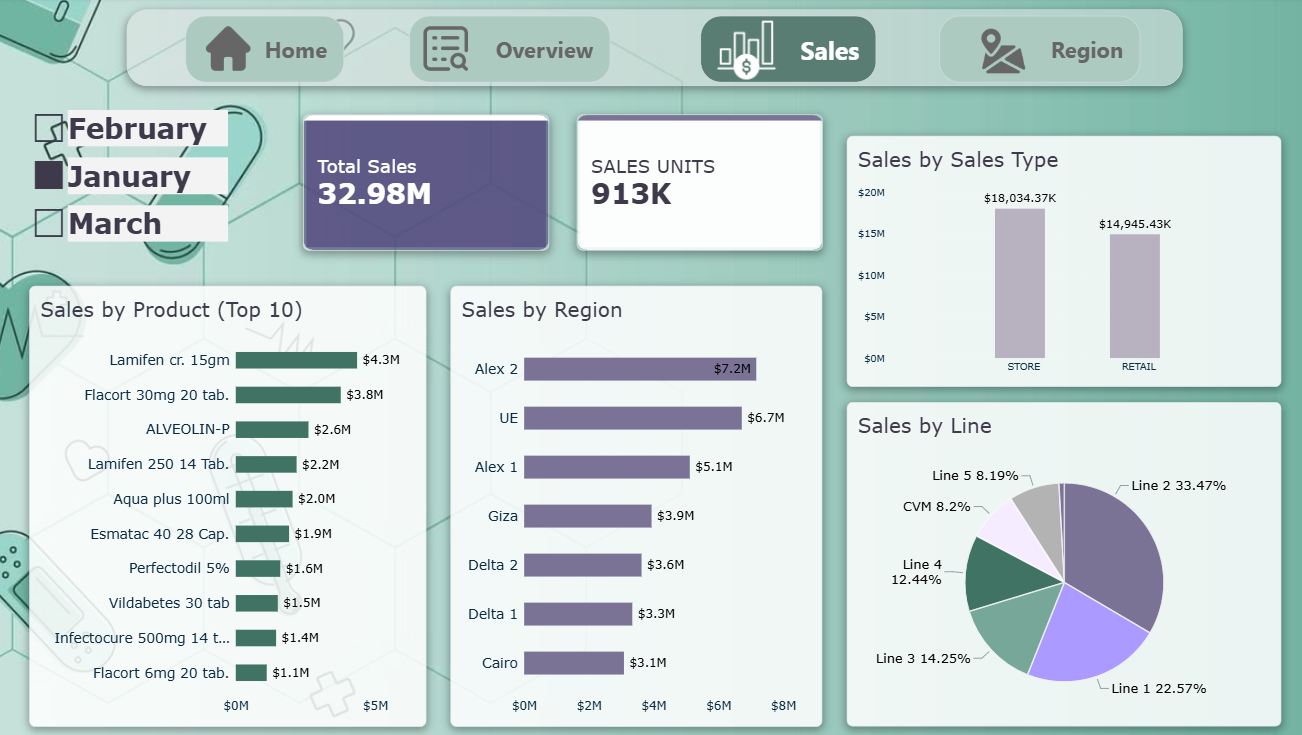

The dashboard page shown, as its layout file describes it:
{"tool":"powerbi","page":{"name":"Sales","canvas":[1920,1080],"ordinal":2},"visuals":[{"type":"shape","box":[193.5,18.5,1533.5,111.1],"z":0},{"type":"shape","box":[279.9,26.8,230.5,96.7],"z":1000},{"type":"shape","box":[603.8,26.8,292.3,96.7],"z":2000},{"type":"shape","box":[1027.1,26.8,255.2,96.7],"z":3000},{"type":"shape","box":[1375,26.8,292.3,96.7],"z":4000},{"type":"image","box":[1412,30.9,109.1,94.7],"z":5000},{"type":"image","box":[1027.1,16.5,133.8,121.4],"z":6000},{"type":"image","box":[603.1,26.8,109.1,94.7],"z":7000},{"type":"image","box":[286.1,26.8,109.1,94.7],"z":8000},{"type":"slicer","fields":{"Values":["Sales.Month Name"]},"box":[52.1,156.4,288.6,227.2],"z":10000},{"type":"clusteredBarChart","title":"Sales by Product (Top 10) ","fields":{"Category":["Sales.EGPI Product Name"],"Y":["Table of Measures.Total Sales"]},"box":[52.1,418.9,577.2,640.5],"z":11000},{"type":"columnChart","title":"Sales by Sales Type","fields":{"Category":["Sales.SALES TYPE"],"Y":["Table of Measures.Total Sales"]},"box":[1240.4,201.5,631.2,364.9],"z":12000},{"type":"clusteredBarChart","title":"Sales by Region ","fields":{"Category":["Sales.REGION"],"Y":["Table of Measures.Total Sales"]},"box":[664.7,418.9,540,640.5],"z":13000},{"type":"cardVisual","fields":{"Data":["Table of Measures.Total Sales"]},"box":[450.6,171.3,357.5,197.4],"z":14000},{"type":"cardVisual","fields":{"Data":["Sum(Sales.SALES UNITS)"]},"box":[847.2,171.3,357.5,197.4],"z":15000},{"type":"pieChart","title":"Sales by Line","fields":{"Category":["Sales.Line Name"],"Y":["Table of Measures.Total Sales"]},"box":[1240,588.4,631.2,471.1],"z":16000}]}

Visuals, with their boxes in screenshot pixels (x1, y1, x2, y2), scaled from the page's 1920x1080 canvas onto the 1302x735 screenshot:
shape: BBox(131, 13, 1171, 88)
shape: BBox(190, 18, 346, 84)
shape: BBox(409, 18, 608, 84)
shape: BBox(697, 18, 870, 84)
shape: BBox(932, 18, 1131, 84)
image: BBox(958, 21, 1031, 85)
image: BBox(697, 11, 787, 94)
image: BBox(409, 18, 483, 83)
image: BBox(194, 18, 268, 83)
slicer - Sales.Month Name: BBox(35, 106, 231, 261)
"Sales by Product (Top 10) " clusteredBarChart: BBox(35, 285, 427, 721)
"Sales by Sales Type" columnChart: BBox(841, 137, 1269, 385)
"Sales by Region " clusteredBarChart: BBox(451, 285, 817, 721)
cardVisual - Table of Measures.Total Sales: BBox(306, 117, 548, 251)
cardVisual - Sum(Sales.SALES UNITS): BBox(575, 117, 817, 251)
"Sales by Line" pieChart: BBox(841, 400, 1269, 721)
